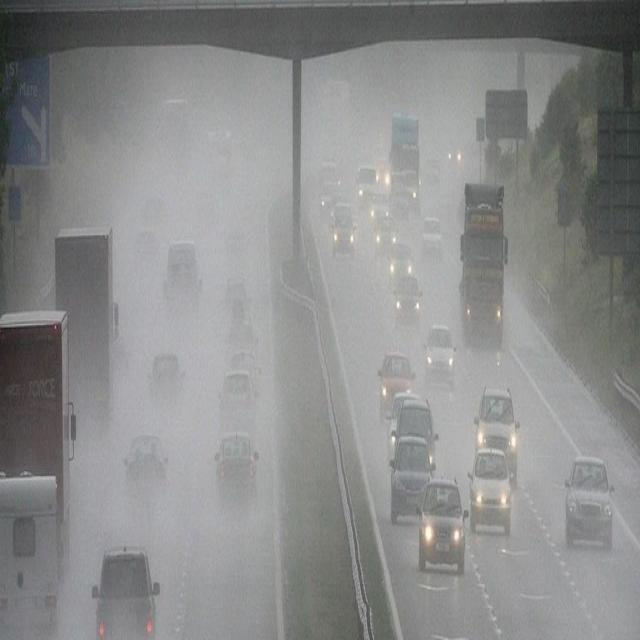Car: (91, 541, 162, 640), (416, 472, 469, 574), (472, 382, 522, 478), (467, 445, 515, 540), (564, 457, 614, 546), (215, 428, 261, 513), (388, 437, 435, 515), (392, 395, 441, 468), (383, 386, 421, 464), (123, 435, 168, 500), (377, 348, 415, 418), (422, 321, 458, 391), (217, 368, 255, 423), (147, 354, 185, 406), (392, 276, 424, 330), (330, 202, 357, 254), (372, 213, 400, 263), (134, 226, 159, 280), (224, 277, 250, 328), (386, 242, 414, 285), (421, 212, 443, 261), (400, 167, 420, 207), (318, 183, 339, 220)
Truck: (0, 307, 76, 589), (54, 219, 121, 430), (458, 178, 508, 354), (389, 104, 421, 197)
Van: (162, 235, 204, 327)
